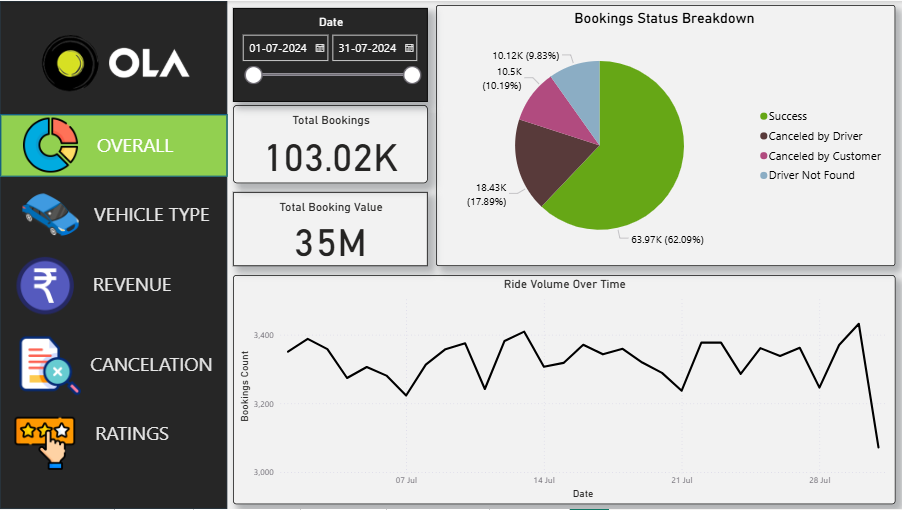

The page's visual inventory and layout, read from the dashboard file:
{"tool":"powerbi","page":{"name":"Overall","canvas":[1280,720],"ordinal":0},"visuals":[{"type":"shape","box":[0,0,322,720],"z":0},{"type":"image","box":[144.6,52.4,134.6,70.9],"z":1000},{"type":"image","box":[0,0,199.8,175.7],"z":2000},{"type":"shape","box":[0,160.6,322.7,89.4],"z":3000},{"type":"textbox","box":[124.2,180.3,133.3,51.5],"z":4000},{"type":"textbox","box":[124.2,277.3,187.9,51.5],"z":5000},{"type":"textbox","box":[119.7,377.3,136.4,51.5],"z":6000},{"type":"image","box":[15.2,253,112.1,98.5],"z":7000},{"type":"image","box":[15.2,160.6,112.1,87.9],"z":8000},{"type":"image","box":[15.2,353,97,100],"z":9000},{"type":"image","box":[22.7,466.7,97,100],"z":10000},{"type":"textbox","box":[118.2,490.9,193.9,51.5],"z":11000},{"type":"image","box":[15.6,576.9,96.4,99.2],"z":12000},{"type":"textbox","box":[119.7,587.9,136.4,50],"z":13000},{"type":"actionButton","box":[0,257.6,322.7,89.4],"z":14000},{"type":"actionButton","box":[0,357.6,322.7,89.4],"z":15000},{"type":"actionButton","box":[0,471.2,322.7,89.4],"z":16000},{"type":"actionButton","box":[0,568.2,322.7,89.4],"z":17000},{"type":"pieChart","title":"Bookings Status Breakdown","fields":{"Category":["July.Booking_Status"],"Y":["CountNonNull(July.Booking_Status)"]},"box":[618,5.7,650.6,369.9],"z":18000},{"type":"lineChart","title":"Ride Volume Over Time","fields":{"Y":["CountNonNull(July.Booking_ID)"],"Category":["July.Date"]},"box":[329.7,388.4,938.9,325.4],"z":19000},{"type":"slicer","title":"Date","fields":{"Values":["July.Date"]},"box":[330.2,9.9,276.4,133.2],"z":20000},{"type":"card","title":"Total Bookings","fields":{"Values":["Count(July.Booking_ID)"]},"box":[330.2,147.4,276.4,110.6],"z":21000},{"type":"card","title":"Total Booking Value","fields":{"Values":["Sum(July.Booking_Value)"]},"box":[330.2,270.7,276.4,104.9],"z":22000}]}

Visuals, with their boxes in screenshot pixels (x1, y1, x2, y2), scaled from the page's 1280x720 canvas onto the 902x510 screenshot:
shape: <box>0,0,227,509</box>
image: <box>102,37,197,87</box>
image: <box>0,0,141,124</box>
shape: <box>0,114,227,177</box>
textbox: <box>88,128,181,164</box>
textbox: <box>88,196,220,233</box>
textbox: <box>84,267,180,304</box>
image: <box>11,179,90,249</box>
image: <box>11,114,90,176</box>
image: <box>11,250,79,321</box>
image: <box>16,331,84,401</box>
textbox: <box>83,348,220,384</box>
image: <box>11,409,79,479</box>
textbox: <box>84,416,180,452</box>
actionButton: <box>0,182,227,246</box>
actionButton: <box>0,253,227,317</box>
actionButton: <box>0,334,227,397</box>
actionButton: <box>0,402,227,466</box>
"Bookings Status Breakdown" pieChart: <box>435,4,894,266</box>
"Ride Volume Over Time" lineChart: <box>232,275,894,506</box>
"Date" slicer: <box>233,7,427,101</box>
"Total Bookings" card: <box>233,104,427,183</box>
"Total Booking Value" card: <box>233,192,427,266</box>
